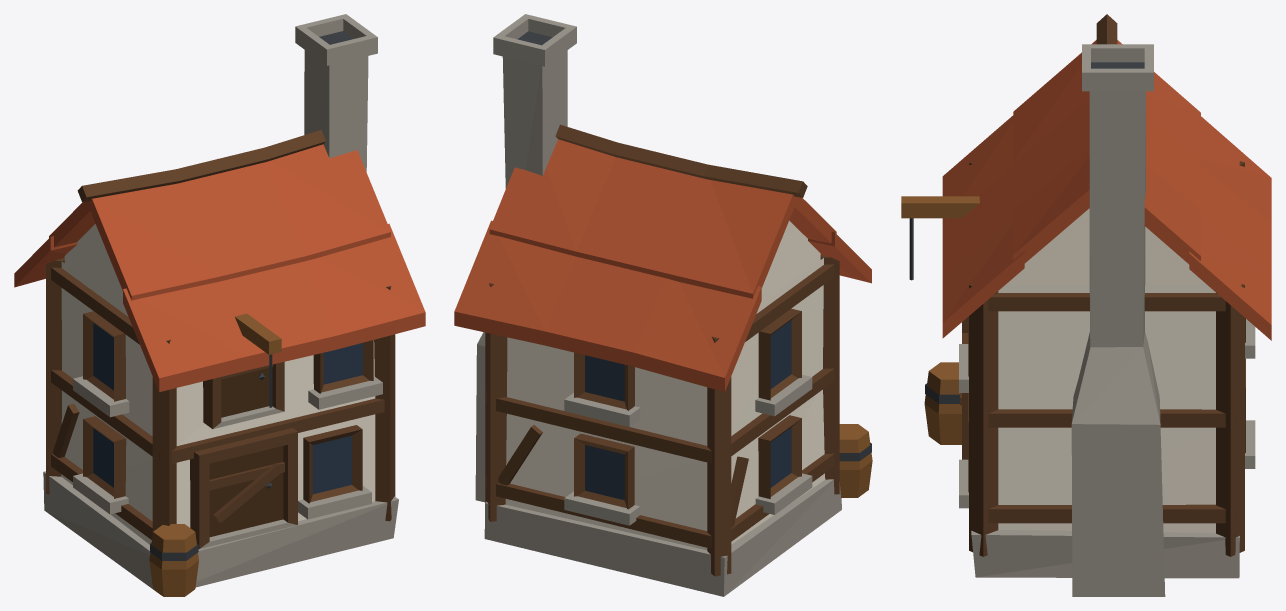
Rendered from workshop_big.glb.
3 renders of one model, left to right at view 1: azimuth 30°, elevation 25°; view 2: azimuth 150°, elevation 25°; view 3: azimuth 270°, elevation 25°, orthographic. The views are drawn at different scales.
Visible parts, largest first — view 1: workshop_big; view 2: workshop_big; view 3: workshop_big.
Part boxes in pixels (box(x1,y1,x2,y2)): workshop_big: box(14, 14, 425, 596); workshop_big: box(454, 14, 872, 596); workshop_big: box(901, 14, 1271, 596).
Size of the model in its own units: 0.7601 by 1.12 by 0.72.
